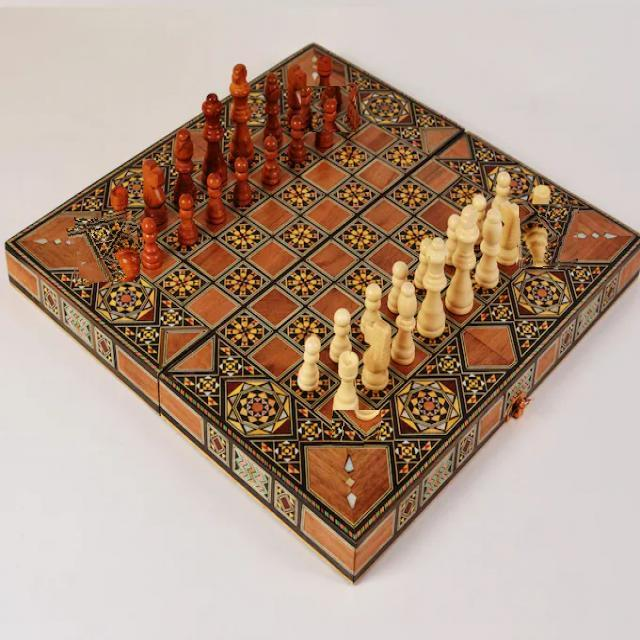chess-table-corners: (70, 213, 140, 282), (518, 204, 578, 269), (301, 86, 356, 132), (332, 410, 381, 448)
